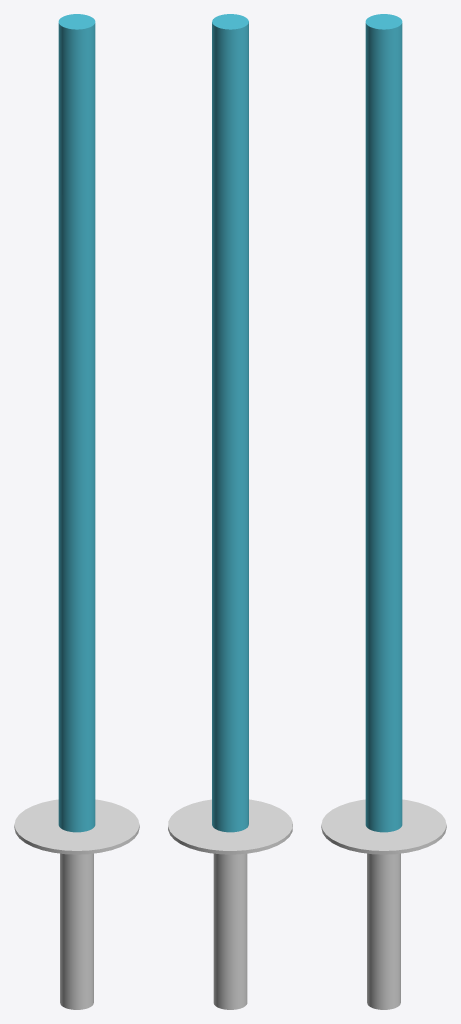
Rendered from Sword.fbx.
The picture shows the model from 3 angles, left to right: view 1: azimuth 90°, elevation 25°; view 2: azimuth 150°, elevation 25°; view 3: azimuth 270°, elevation 25°; orthographic projection.
Visible parts, largest first — view 1: Blade, Main; view 2: Blade, Main; view 3: Blade, Main.
Part boxes in pixels (x1=…): Blade: x1=58, y1=14, x2=95, y2=832; Main: x1=14, y1=799, x2=139, y2=1009; Blade: x1=212, y1=14, x2=248, y2=832; Main: x1=168, y1=799, x2=292, y2=1009; Blade: x1=365, y1=14, x2=402, y2=832; Main: x1=321, y1=799, x2=446, y2=1009.
Size of the model in its own units: 19.17 by 166 by 19.17.
